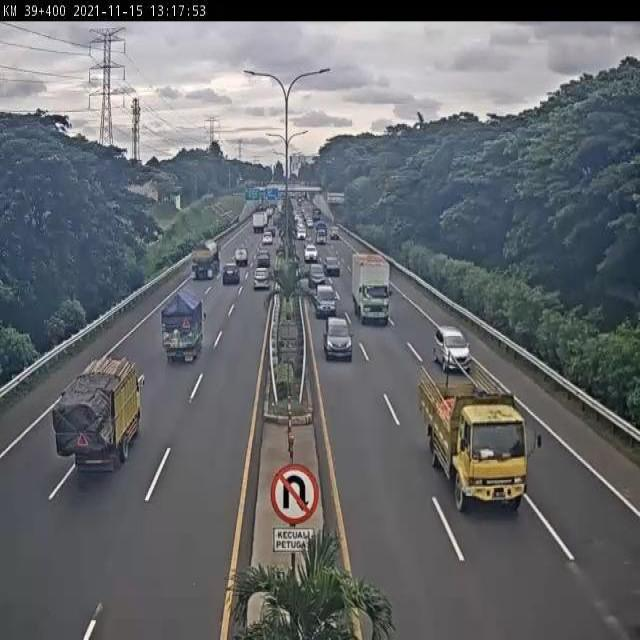ARABA: (433, 321, 472, 372), (321, 310, 355, 362), (313, 282, 338, 318), (220, 261, 240, 288), (251, 265, 270, 292), (308, 262, 326, 290), (324, 255, 341, 277)
KAMYONET: (425, 363, 532, 525), (53, 355, 143, 472), (351, 253, 392, 327), (160, 290, 202, 362)
TIR: (187, 239, 221, 284)
